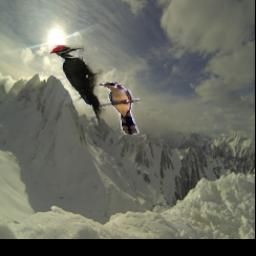Cuckoo: (98, 83, 138, 135)
Woodpecker: (49, 46, 109, 127)
